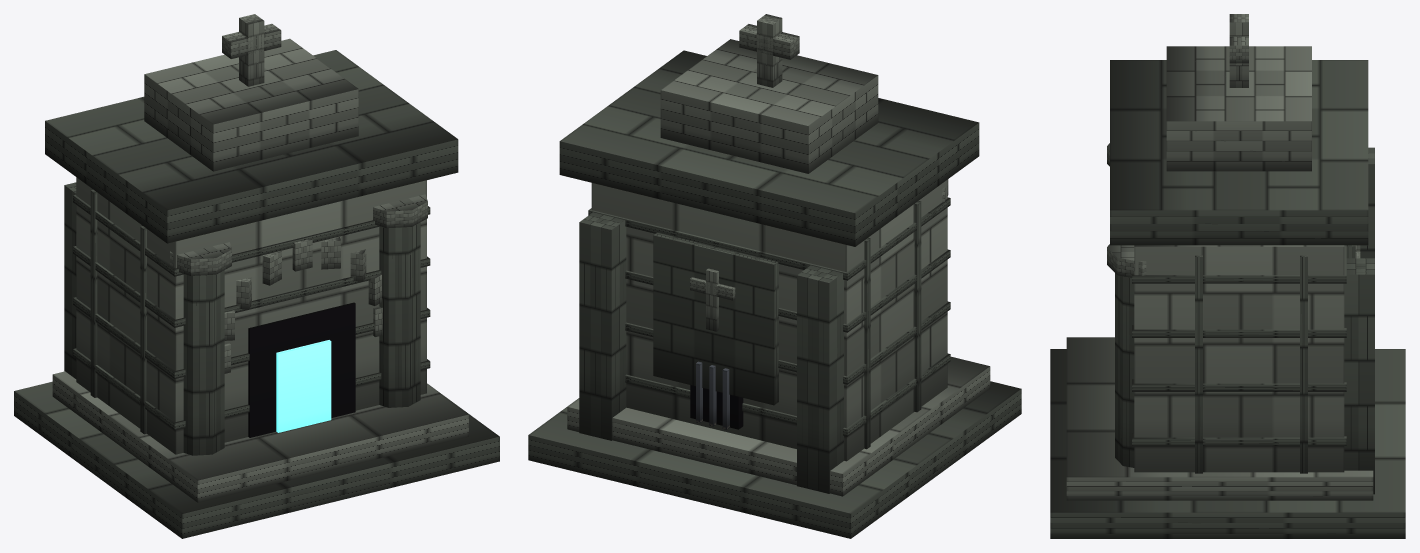
File: crypt_entrance.fbx
The picture shows the model from 3 angles, left to right: view 1: azimuth 30°, elevation 25°; view 2: azimuth 150°, elevation 25°; view 3: azimuth 270°, elevation 25°; orthographic projection. The views are drawn at different scales.
Parts seen in each view (by area): view 1: crypt_entrance; view 2: crypt_entrance; view 3: crypt_entrance.
Boxes of the visible parts, x1,y1,x2,y2 form: crypt_entrance: [14, 14, 499, 538]; crypt_entrance: [528, 14, 1021, 538]; crypt_entrance: [1050, 14, 1405, 538].
Size of the model in its own units: 240 by 300 by 220.
1 material, 1 textured.
